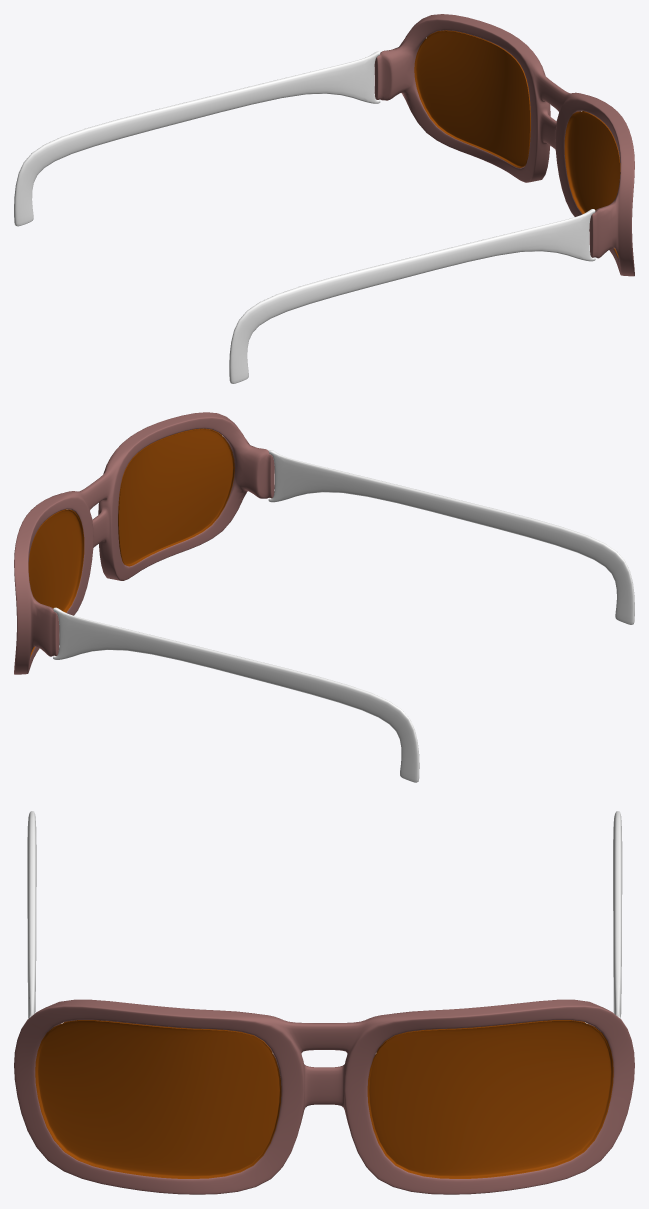
File: ranTry2.obj
3 renders of one model, top to bottom at view 1: azimuth 30°, elevation 25°; view 2: azimuth 150°, elevation 25°; view 3: azimuth 270°, elevation 25°, orthographic. The views are drawn at different scales.
Visible parts, largest first — view 1: polySurface1 Glasses:Mesh, Glasses:Mesh polySurface5, Glasses:Mesh polySurface2, Glasses:Mesh polySurface3, Glasses:Mesh polySurface7; view 2: polySurface1 Glasses:Mesh, Glasses:Mesh polySurface7, Glasses:Mesh polySurface3, Glasses:Mesh polySurface2, Glasses:Mesh polySurface5; view 3: polySurface1 Glasses:Mesh, Glasses:Mesh polySurface4, Glasses:Mesh polySurface6, Glasses:Mesh polySurface2, Glasses:Mesh polySurface3.
Part boxes in pixels (box(x1,y1,x2,y2)): polySurface1 Glasses:Mesh: box(374, 14, 634, 276); Glasses:Mesh polySurface5: box(414, 30, 530, 168); Glasses:Mesh polySurface2: box(229, 209, 595, 383); Glasses:Mesh polySurface3: box(14, 51, 380, 226); Glasses:Mesh polySurface7: box(564, 111, 620, 258); polySurface1 Glasses:Mesh: box(14, 412, 274, 674); Glasses:Mesh polySurface7: box(118, 429, 234, 566); Glasses:Mesh polySurface3: box(53, 607, 419, 782); Glasses:Mesh polySurface2: box(268, 450, 634, 624); Glasses:Mesh polySurface5: box(28, 509, 84, 656); polySurface1 Glasses:Mesh: box(14, 999, 634, 1194); Glasses:Mesh polySurface4: box(367, 1020, 613, 1178); Glasses:Mesh polySurface6: box(35, 1020, 281, 1178); Glasses:Mesh polySurface2: box(27, 811, 36, 1018); Glasses:Mesh polySurface3: box(613, 811, 622, 1018).
Size of the model in its own units: 6.74 by 1.91 by 6.01.
